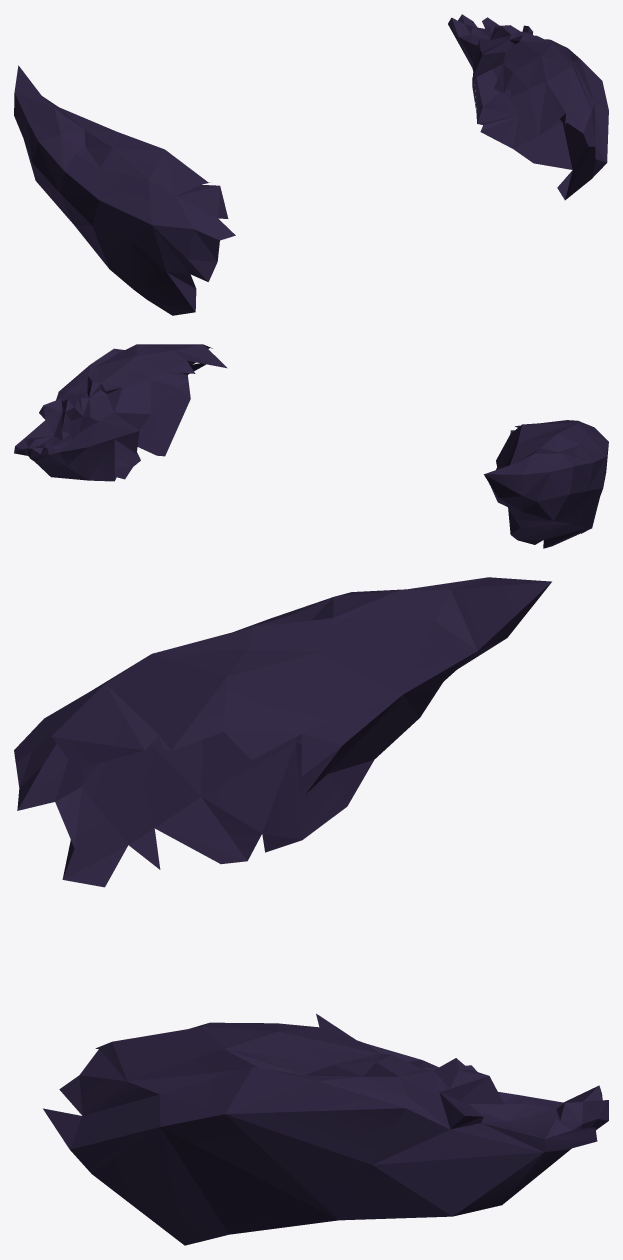
The model's file is chifres_recuados.glb.
3 views of the same model, one above another, from view 1: azimuth 30°, elevation 25°; view 2: azimuth 150°, elevation 25°; view 3: azimuth 270°, elevation 25° (orthographic). The views are drawn at different scales.
Visible parts, largest first — view 1: chifres; view 2: chifres; view 3: chifres.
Part boxes in pixels (left/top/right/bottom): chifres: left=14, top=14, right=608, bottom=315; chifres: left=14, top=344, right=608, bottom=548; chifres: left=14, top=577, right=608, bottom=1245.
Size of the model in its own units: 0.1489 by 0.0445 by 0.0831.
